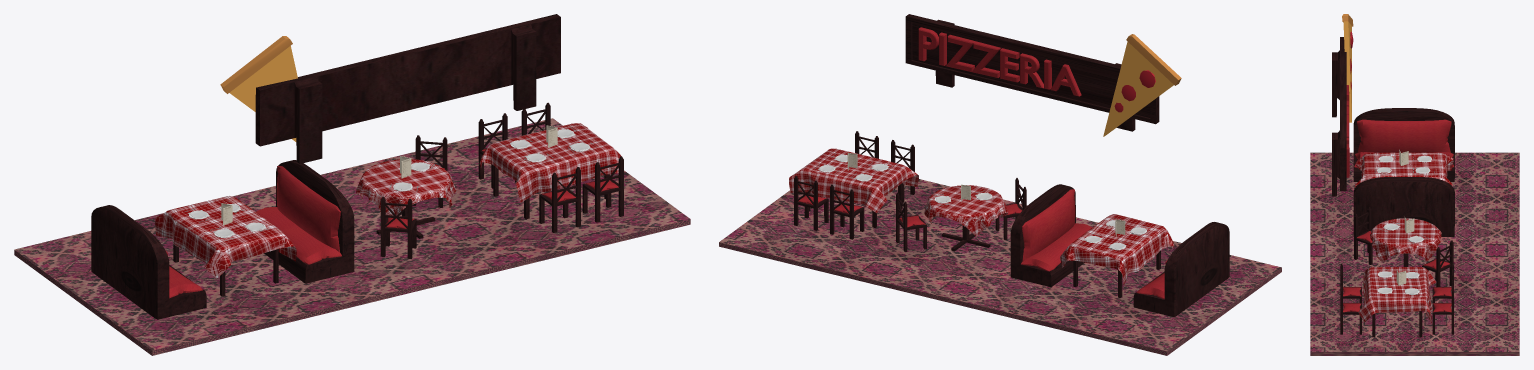
The model's file is rest.glb.
The picture shows the model from 3 angles, left to right: view 1: azimuth 30°, elevation 25°; view 2: azimuth 150°, elevation 25°; view 3: azimuth 270°, elevation 25°; orthographic projection. The views are drawn at different scales.
Parts seen in each view (by area): view 1: Floor, Sign, Sofa-Chair, Sofa-Chair.001, Table, Table.001, Table-Round, Chair.004, Chair.005, Chair.003, Chair.001, Chair.002; view 2: Floor, Sign, Sofa-Chair, Sofa-Chair.001, Table.001, Table, Table-Round, Chair, Chair.001, Chair.002, Chair.003, Chair.005; view 3: Floor, Sofa-Chair.001, Sofa-Chair, Table.001, Sign, Table-Round, Table, Chair.002, Chair.003, Chair, Chair.004, Chair.001 (+1 smaller).
Part boxes in pixels (box(x1,y1,x2,y2)): Floor: box(14, 118, 690, 355); Sign: box(220, 14, 560, 163); Sofa-Chair: box(256, 160, 354, 283); Sofa-Chair.001: box(91, 205, 206, 319); Table: box(155, 196, 296, 296); Table.001: box(479, 123, 621, 219); Table-Round: box(356, 159, 455, 238); Chair.004: box(582, 156, 623, 222); Chair.005: box(539, 167, 580, 233); Chair.003: box(380, 196, 416, 258); Chair.001: box(478, 113, 516, 188); Chair.002: box(412, 135, 447, 207); Floor: box(719, 179, 1281, 355); Sign: box(905, 14, 1181, 136); Sofa-Chair: box(1010, 184, 1092, 287); Sofa-Chair.001: box(1133, 222, 1229, 316); Table.001: box(789, 148, 918, 227); Table: box(1060, 214, 1174, 297); Table-Round: box(924, 185, 1008, 251); Chair: box(794, 175, 828, 230); Chair.001: box(830, 184, 864, 239); Chair.002: box(896, 192, 926, 251); Chair.003: box(995, 178, 1026, 240); Chair.005: box(891, 140, 914, 202); Floor: box(1310, 152, 1519, 355); Sofa-Chair.001: box(1353, 108, 1454, 181); Sofa-Chair: box(1353, 177, 1454, 236); Table.001: box(1358, 266, 1436, 337); Sign: box(1332, 14, 1353, 196); Table-Round: box(1370, 218, 1441, 270); Table: box(1355, 152, 1453, 187); Chair.002: box(1422, 240, 1453, 286); Chair.003: box(1354, 207, 1372, 264); Chair: box(1432, 280, 1453, 334); Chair.004: box(1340, 280, 1361, 334); Chair.001: box(1432, 264, 1453, 302).
Size of the model in its own units: 20.12 by 9.41 by 8.93.
Materials: 14 (14 with a texture image).
